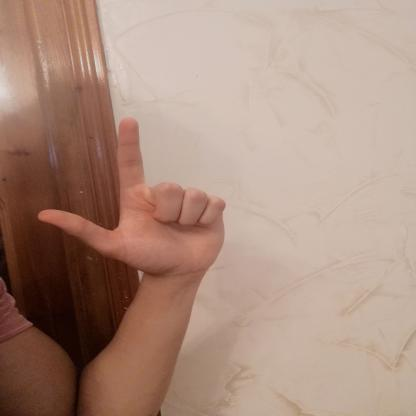LAAM: (22, 109, 235, 282)
